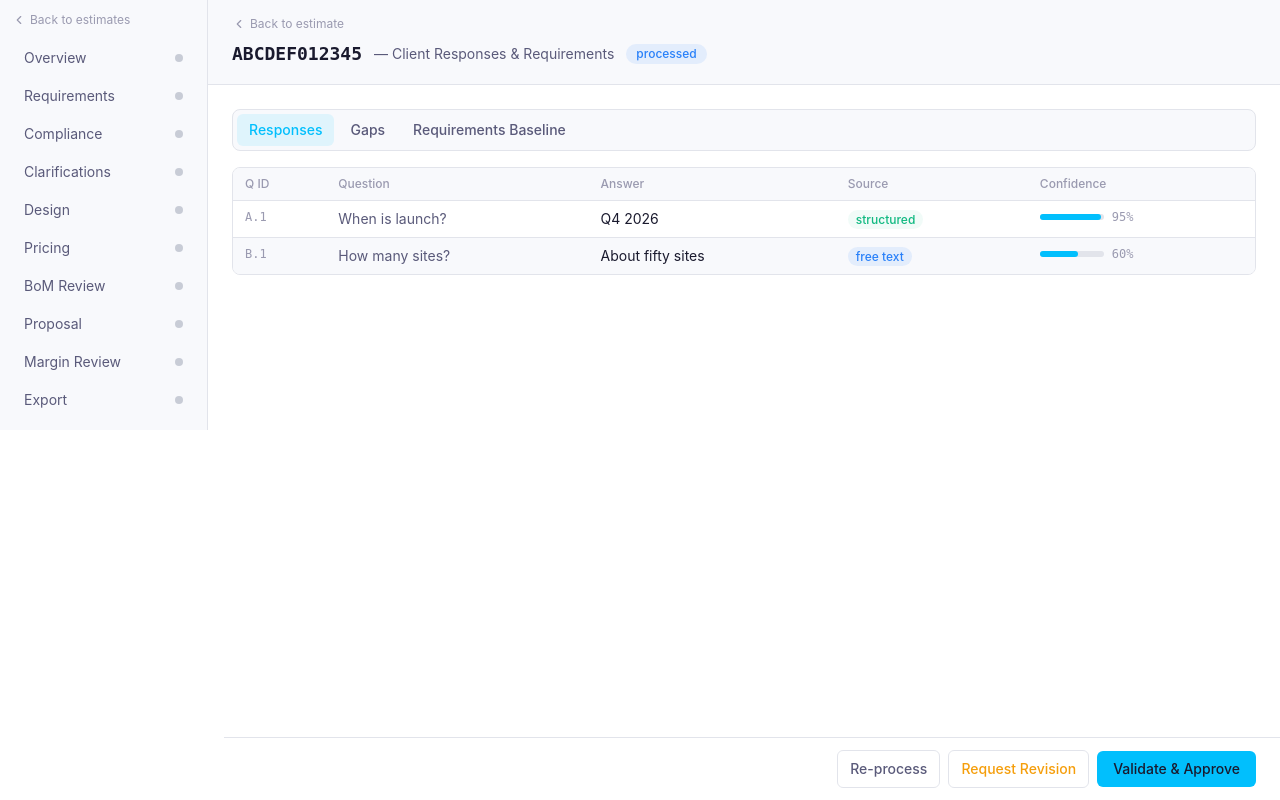
it: ResponsesPage › switches to gaps tab and shows incomplete, vague, contradiction, assumption entries
The image size is (1280, 800).
Expected: the text "Q4 2026" is shown, [588,200,836,238]
Click the button "Gaps". click: click(368, 130)
box: [338,114,397,146]
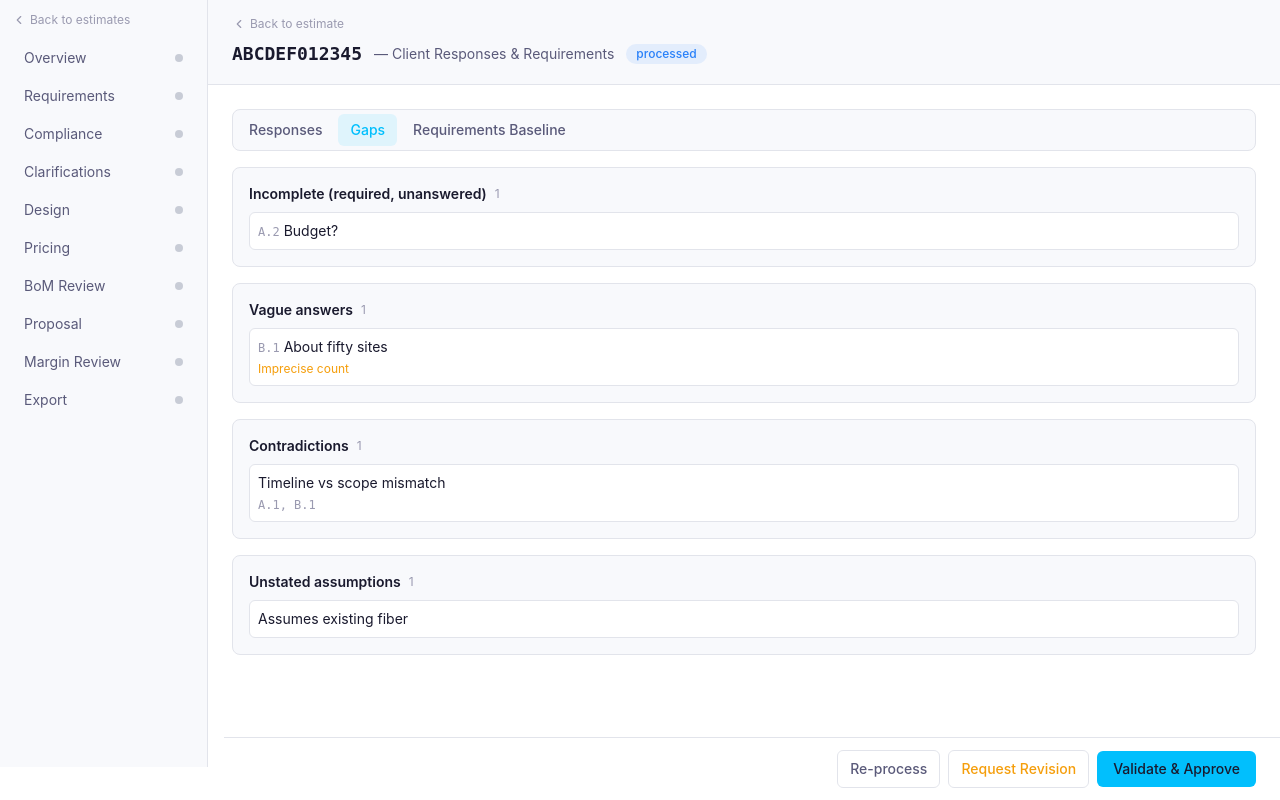
Expected: the heading "Incomplete (required, unanswered)" is shown, [249,184,487,204]
Expected: the text "Imprecise count" is shown, [258,361,349,376]
Expected: the text "Timeline vs scope mismatch" is shown, [258,474,446,491]
